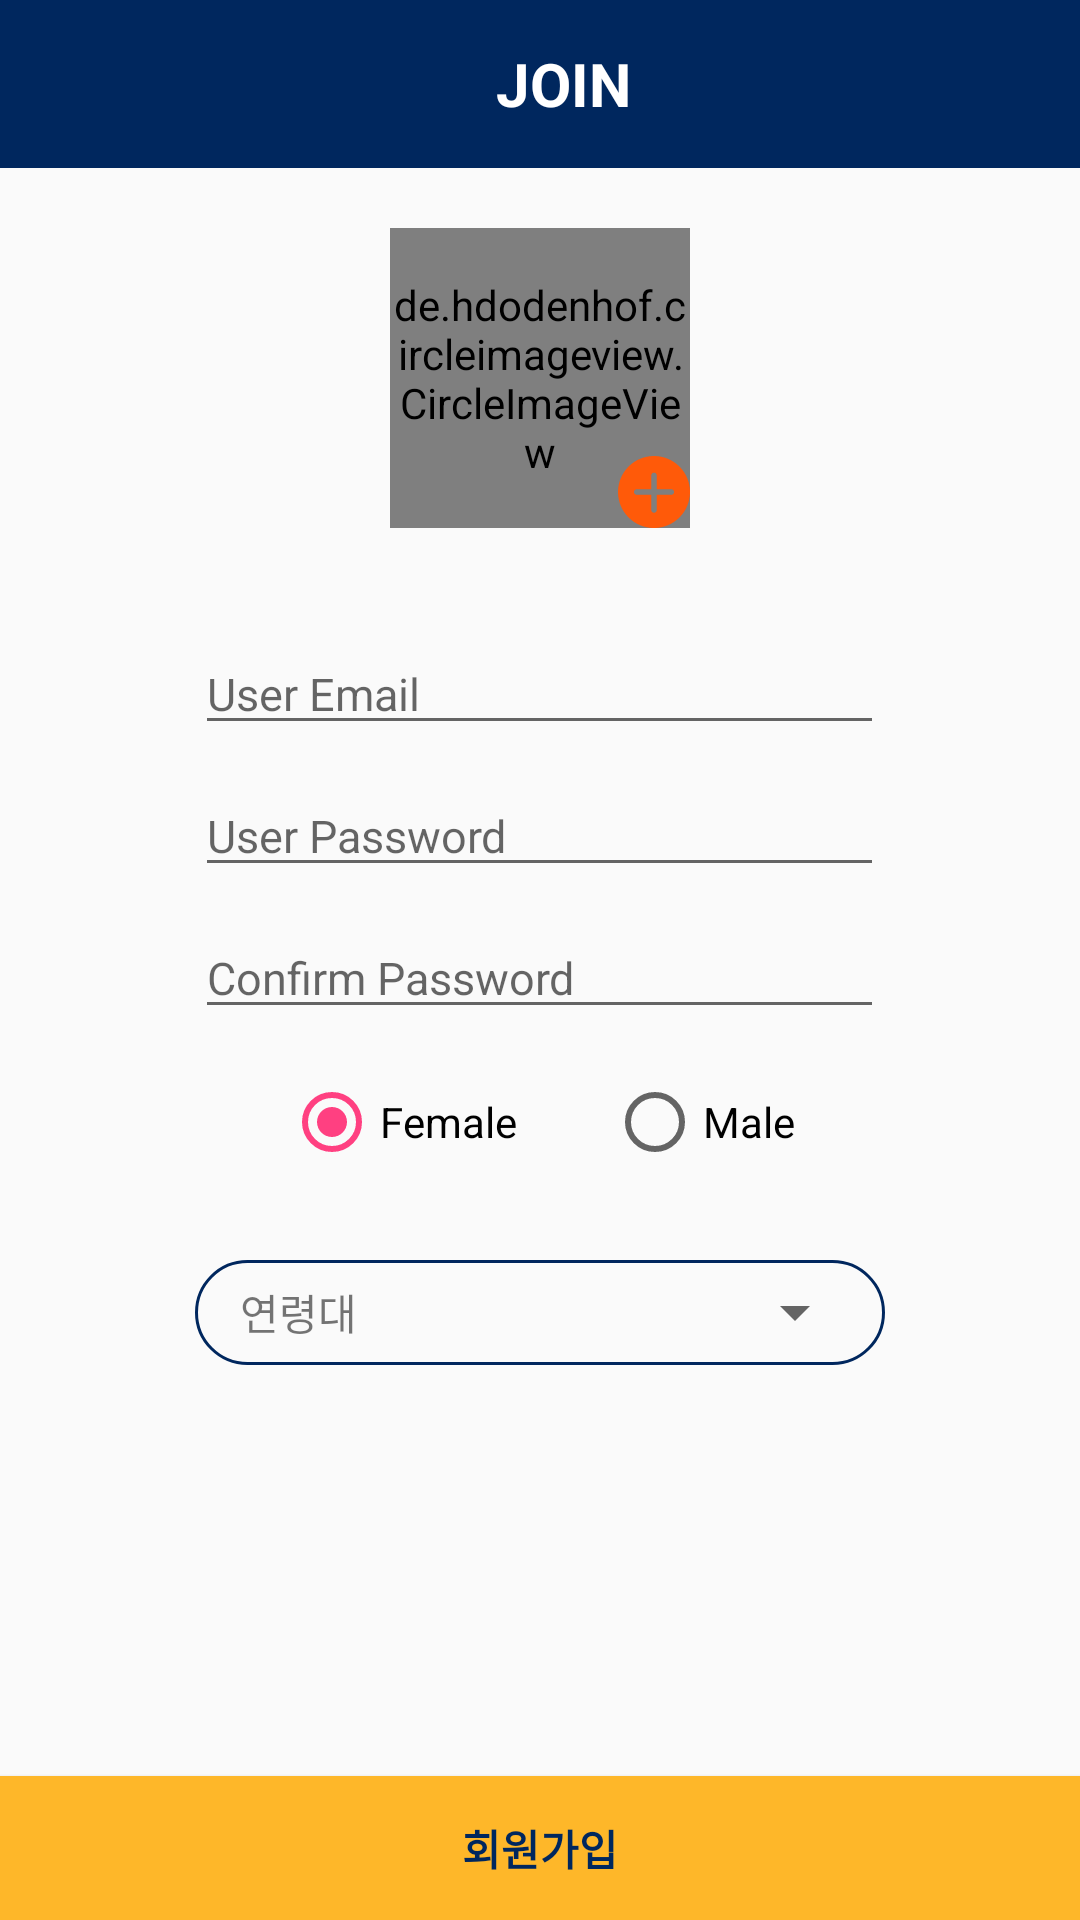

Where to tap for icons on this 1080×1920 app screen, as [x,y]:
plus: [654,492]
